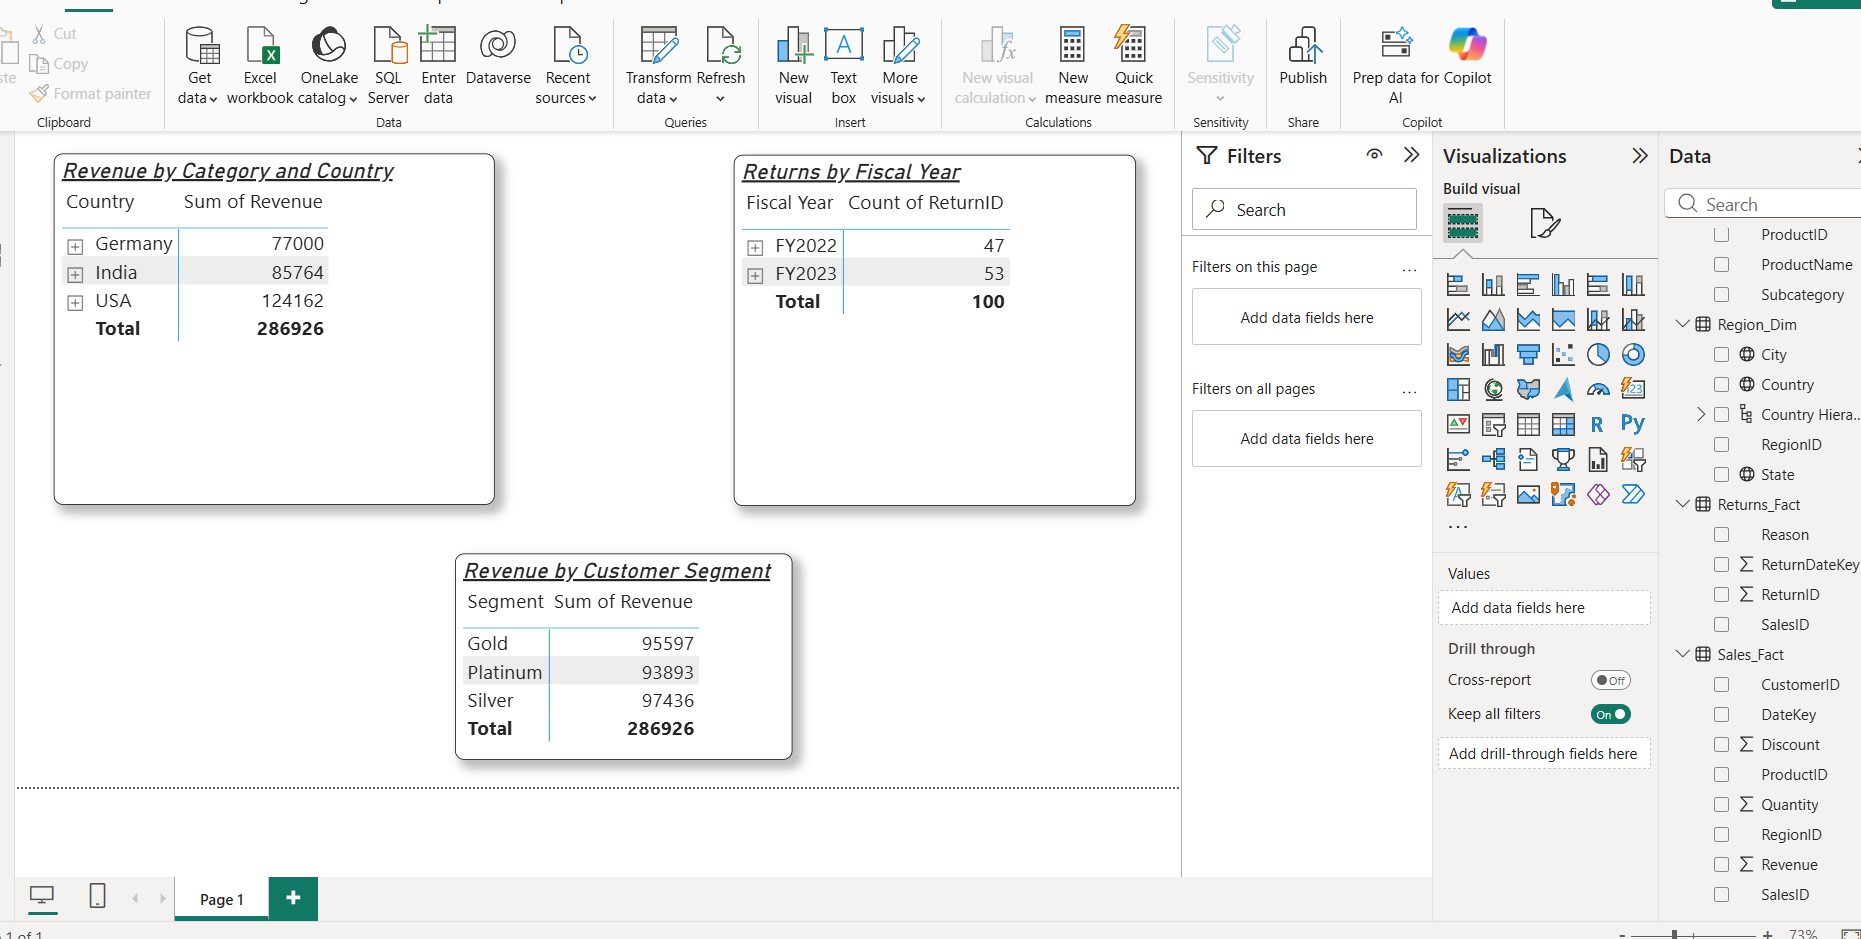

The dashboard page shown, as its layout file describes it:
{"tool":"powerbi","page":{"name":"Page 1","canvas":[1280,720],"ordinal":0},"visuals":[{"type":"pivotTable","title":"Revenue by Category and Country","fields":{"Rows":["Region_Dim.Country","Product_Dim.Category"],"Values":["Sum(Sales_Fact.Revenue)"]},"box":[42.5,24.7,484.4,385.6],"z":0},{"type":"pivotTable","title":"Returns by Fiscal Year","fields":{"Rows":["Date_Dim.Fiscal Year","Returns_Fact.Reason"],"Values":["CountNonNull(Returns_Fact.ReturnID)"]},"box":[789,26.1,441.9,385.6],"z":1},{"type":"pivotTable","title":"Revenue by Customer Segment","fields":{"Rows":["Customer_Dim.Segment"],"Values":["Sum(Sales_Fact.Revenue)"]},"box":[483,463.8,370.5,226.4],"z":2}]}

Visuals, with their boxes on the page's 1280x720 design canvas (x1, y1, x2, y2). These are canvas units, not pixel positions in the 1861x939 screenshot, which may show the page scaled, cropped or inside an application window:
"Revenue by Category and Country" pivotTable: (left=42, top=25, right=527, bottom=410)
"Returns by Fiscal Year" pivotTable: (left=789, top=26, right=1231, bottom=412)
"Revenue by Customer Segment" pivotTable: (left=483, top=464, right=854, bottom=690)
